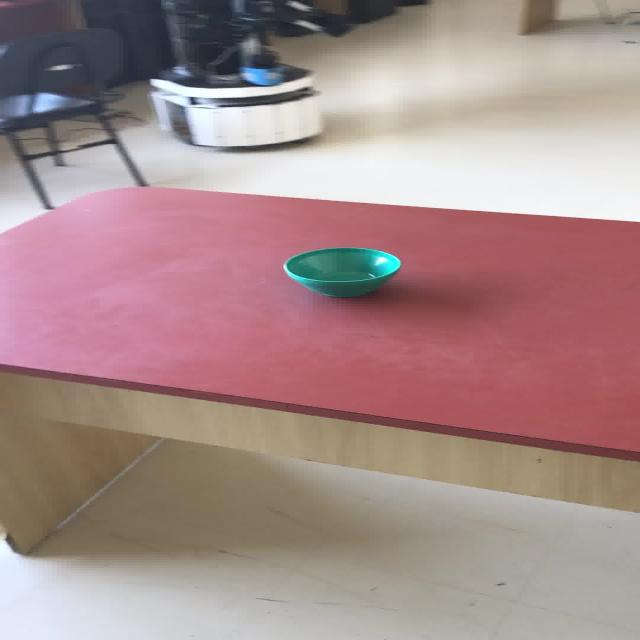bowl: (282, 246, 401, 297)
